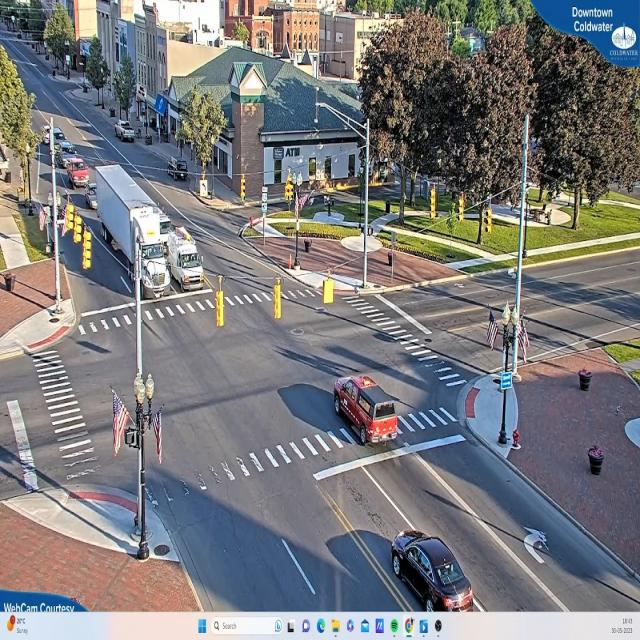car: (391, 531, 477, 612), (333, 374, 401, 444), (63, 154, 88, 186), (117, 121, 138, 143)
truck: (97, 164, 172, 299), (168, 225, 205, 289)
